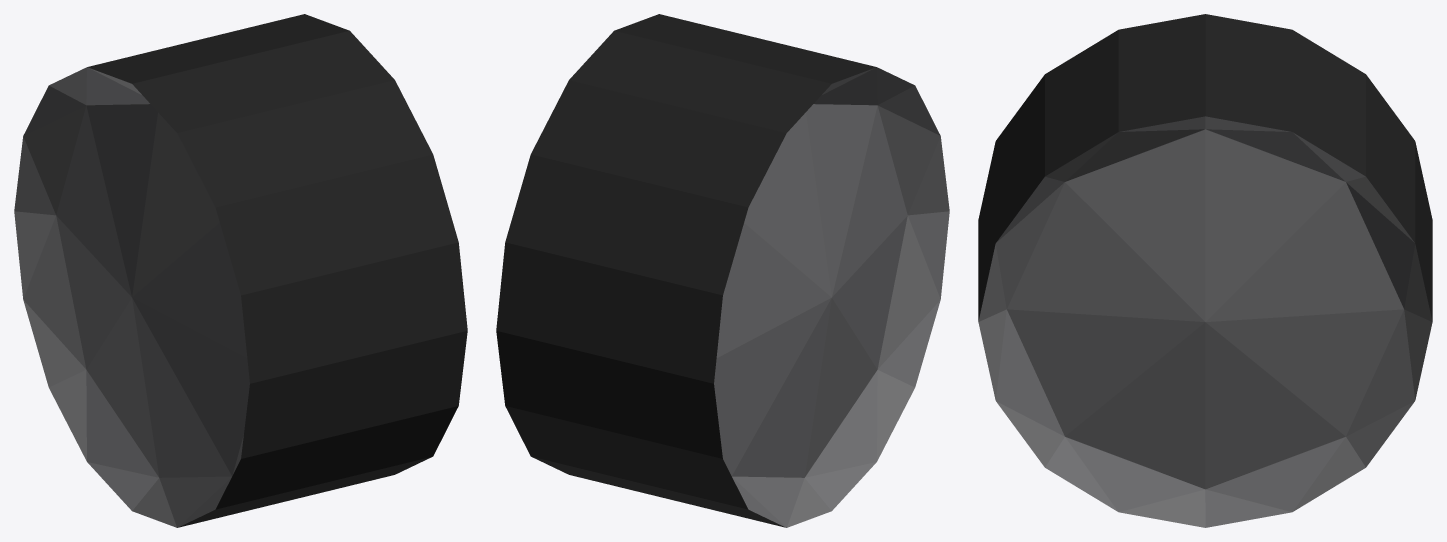
Rendered from wheel_3.glb.
3 views of the same model, side by side, from view 1: azimuth 30°, elevation 25°; view 2: azimuth 150°, elevation 25°; view 3: azimuth 270°, elevation 25° (orthographic). The views are drawn at different scales.
Parts seen in each view (by area): view 1: vehicles/wheel_3; view 2: vehicles/wheel_3; view 3: vehicles/wheel_3.
Part boxes in pixels (box(x1,y1,x2,y2)): vehicles/wheel_3: box(14, 14, 467, 527); vehicles/wheel_3: box(496, 14, 949, 527); vehicles/wheel_3: box(978, 14, 1432, 527).
Size of the model in its own units: 0.25 by 0.4688 by 0.4688.
Materials: 1 (1 with a texture image).
